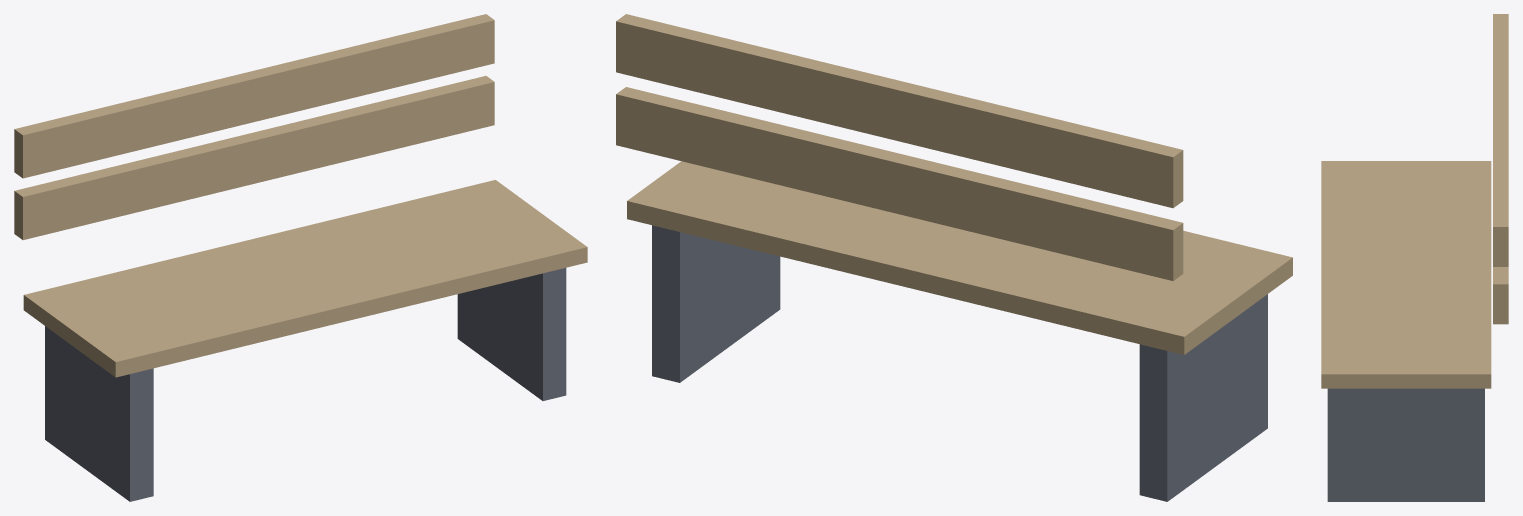
Rendered from bench.glb.
The picture shows the model from 3 angles, left to right: view 1: azimuth 30°, elevation 25°; view 2: azimuth 150°, elevation 25°; view 3: azimuth 270°, elevation 25°; orthographic projection. The views are drawn at different scales.
Size of the model in its own units: 1.6 by 0.99 by 0.595.
